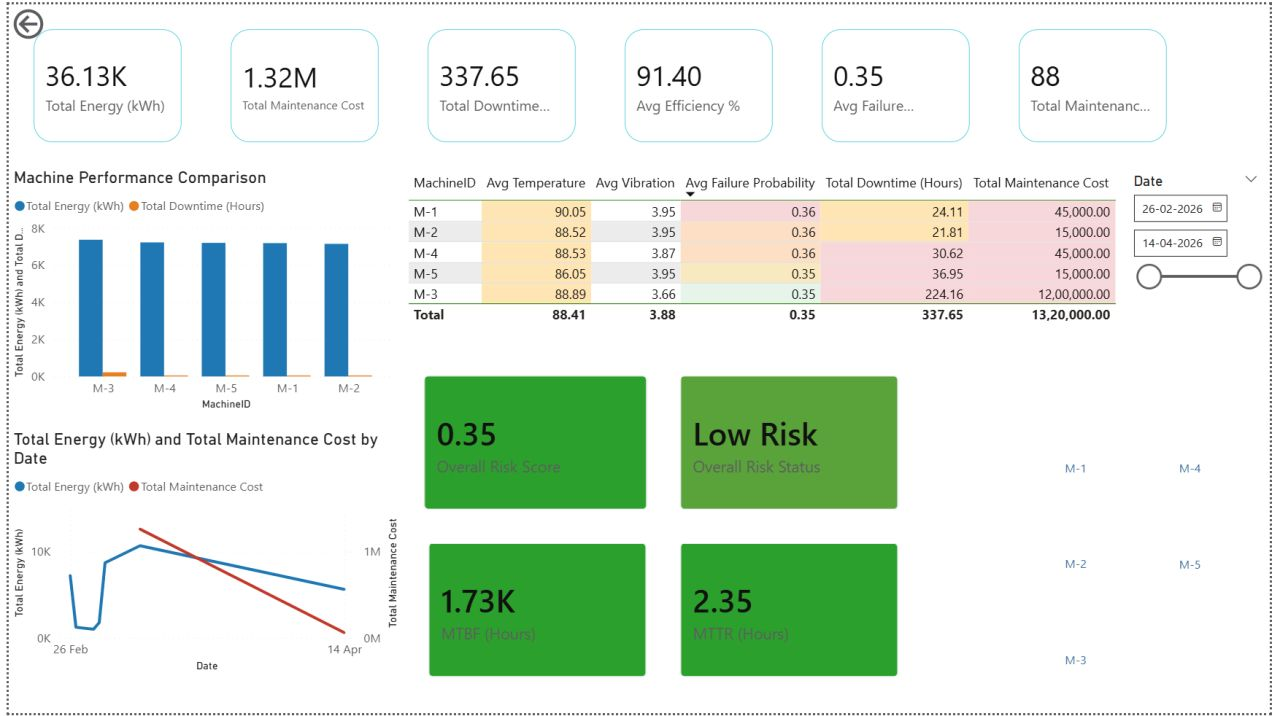

The page's visual inventory and layout, read from the dashboard file:
{"tool":"powerbi","page":{"name":"Executive Summary","canvas":[1280,720],"ordinal":3},"visuals":[{"type":"cardVisual","fields":{"Data":["_Measures.Total Energy (kWh)"]},"box":[0,0,200,165.6],"z":0},{"type":"cardVisual","fields":{"Data":["_Measures.Total Maintenance Cost"]},"box":[200,0,200,165.6],"z":1000},{"type":"cardVisual","fields":{"Data":["_Measures.Total Downtime (Hours)"]},"box":[400,0,200,165.6],"z":2000},{"type":"cardVisual","fields":{"Data":["_Measures.Avg Efficiency %"]},"box":[600,0,200,165.6],"z":3000},{"type":"cardVisual","fields":{"Data":["_Measures.Avg Failure Probability"]},"box":[800,0,200,165.6],"z":4000},{"type":"cardVisual","fields":{"Data":["_Measures.Total Maintenance Events"]},"box":[1000,0,200,165.6],"z":5000},{"type":"clusteredColumnChart","title":"Machine Performance Comparison","fields":{"Category":["Machine_Dimension.MachineID"],"Y":["_Measures.Total Energy (kWh)","_Measures.Total Downtime (Hours)"]},"box":[0,165.6,400,251.1],"z":6000},{"type":"lineChart","fields":{"Category":["Date_Table.Date"],"Y":["_Measures.Total Energy (kWh)"],"Y2":["_Measures.Total Maintenance Cost"]},"box":[0,431.5,400,251],"z":7000},{"type":"tableEx","fields":{"Values":["Machine_Dimension.MachineID","_Measures.Avg Temperature","_Measures.Avg Vibration","_Measures.Avg Failure Probability","_Measures.Total Downtime (Hours)","_Measures.Total Maintenance Cost"]},"box":[400,165.6,728.9,168.9],"z":8000},{"type":"actionButton","box":[0,0,100,40],"z":9000},{"type":"cardVisual","fields":{"Data":["_Measures.Overall Risk Score"]},"box":[404.4,360,260,170],"z":10000},{"type":"cardVisual","fields":{"Data":["_Measures.Overall Risk Status"]},"box":[664.4,360,255.6,170],"z":11000},{"type":"slicer","fields":{"Values":["Date_Table.Date"]},"box":[1128.9,165.6,151.1,251.1],"z":12000},{"type":"slicer","fields":{"Values":["Machine_Dimension.MachineID"]},"box":[1000,416.7,280,303.3],"z":13000},{"type":"cardVisual","fields":{"Data":["_Measures.MTBF (Hours)"]},"box":[408.9,530,255.6,170],"z":14000},{"type":"cardVisual","fields":{"Data":["_Measures.MTTR (Hours)"]},"box":[664.4,530,255.6,170],"z":15000}]}

Visuals, with their boxes in screenshot pixels (x1, y1, x2, y2), scaled from the page's 1280x720 canvas onto the 1280x716 screenshot:
cardVisual - _Measures.Total Energy (kWh): [0, 0, 200, 165]
cardVisual - _Measures.Total Maintenance Cost: [200, 0, 400, 165]
cardVisual - _Measures.Total Downtime (Hours): [400, 0, 600, 165]
cardVisual - _Measures.Avg Efficiency %: [600, 0, 800, 165]
cardVisual - _Measures.Avg Failure Probability: [800, 0, 1000, 165]
cardVisual - _Measures.Total Maintenance Events: [1000, 0, 1200, 165]
"Machine Performance Comparison" clusteredColumnChart: [0, 165, 400, 414]
lineChart - Date_Table.Date x _Measures.Total Energy (kWh): [0, 429, 400, 679]
tableEx - Machine_Dimension.MachineID x _Measures.Avg Temperature: [400, 165, 1129, 333]
actionButton: [0, 0, 100, 40]
cardVisual - _Measures.Overall Risk Score: [404, 358, 664, 527]
cardVisual - _Measures.Overall Risk Status: [664, 358, 920, 527]
slicer - Date_Table.Date: [1129, 165, 1279, 414]
slicer - Machine_Dimension.MachineID: [1000, 414, 1279, 715]
cardVisual - _Measures.MTBF (Hours): [409, 527, 664, 696]
cardVisual - _Measures.MTTR (Hours): [664, 527, 920, 696]
